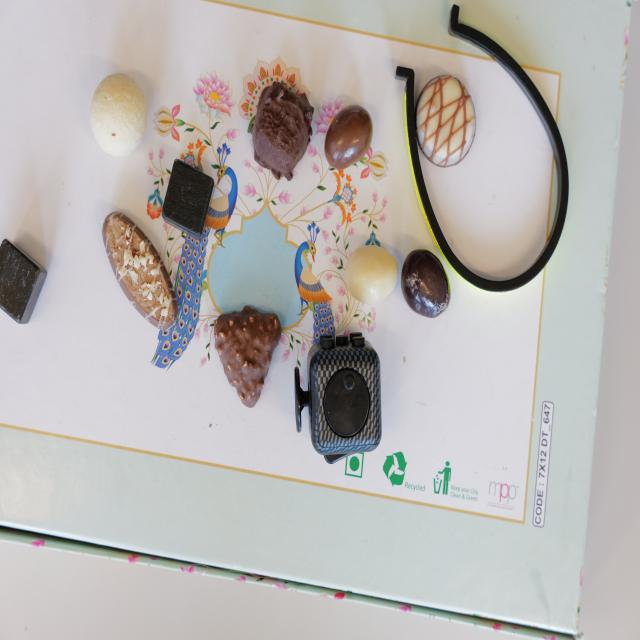Amandina: (102, 210, 179, 326)
Comtesse: (90, 73, 148, 154)
Creme_brulee: (414, 76, 476, 165)
Jelly_Black: (402, 249, 451, 321)
Jelly_Milk: (325, 106, 373, 171)
Jelly_White: (347, 246, 398, 304)
Tentation_noir: (249, 81, 312, 175)
Triangolo: (216, 308, 282, 407)
